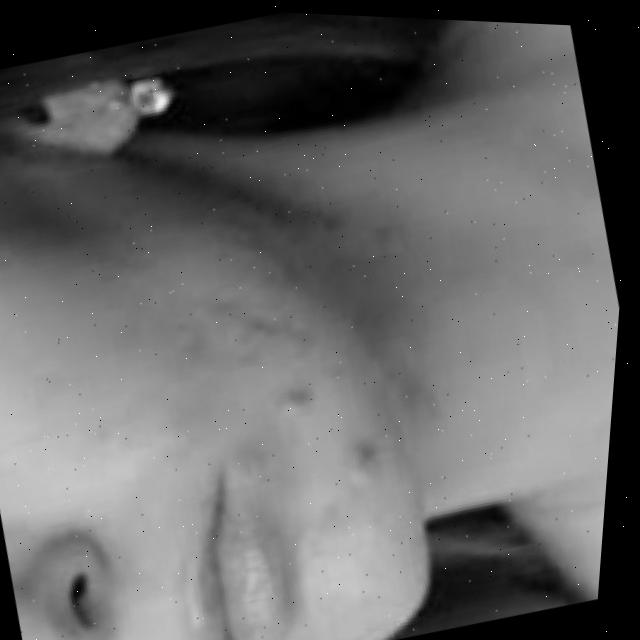Acne: (278, 380, 325, 418), (345, 425, 382, 469), (235, 448, 268, 470)
